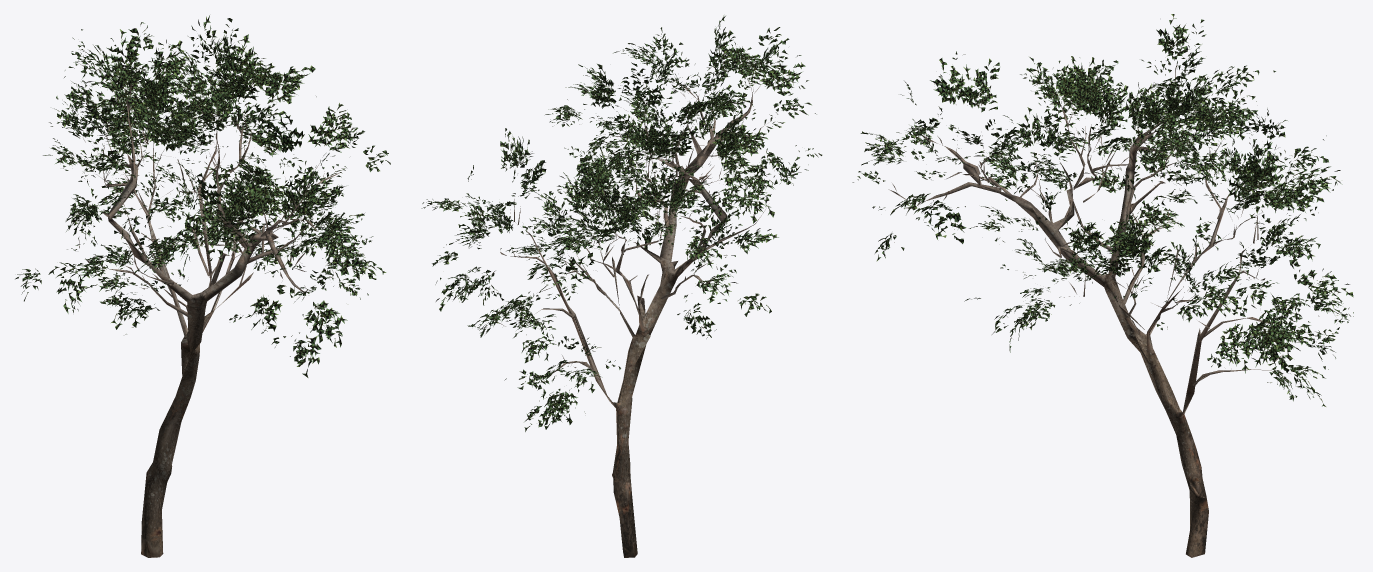
File: tree.glb
3 renders of one model, left to right at view 1: azimuth 30°, elevation 25°; view 2: azimuth 150°, elevation 25°; view 3: azimuth 270°, elevation 25°, orthographic. The views are drawn at different scales.
Parts seen in each view (by area): view 1: tree_small_02_LOD0; view 2: tree_small_02_LOD0; view 3: tree_small_02_LOD0.
Boxes of the visible parts, <box> form: tree_small_02_LOD0: <box>15,15,390,557</box>; tree_small_02_LOD0: <box>421,15,822,557</box>; tree_small_02_LOD0: <box>852,14,1353,557</box>.
Bounding box in the file's own units: 2.88 × 4.54 × 4.17.
3 materials, 3 textured.
